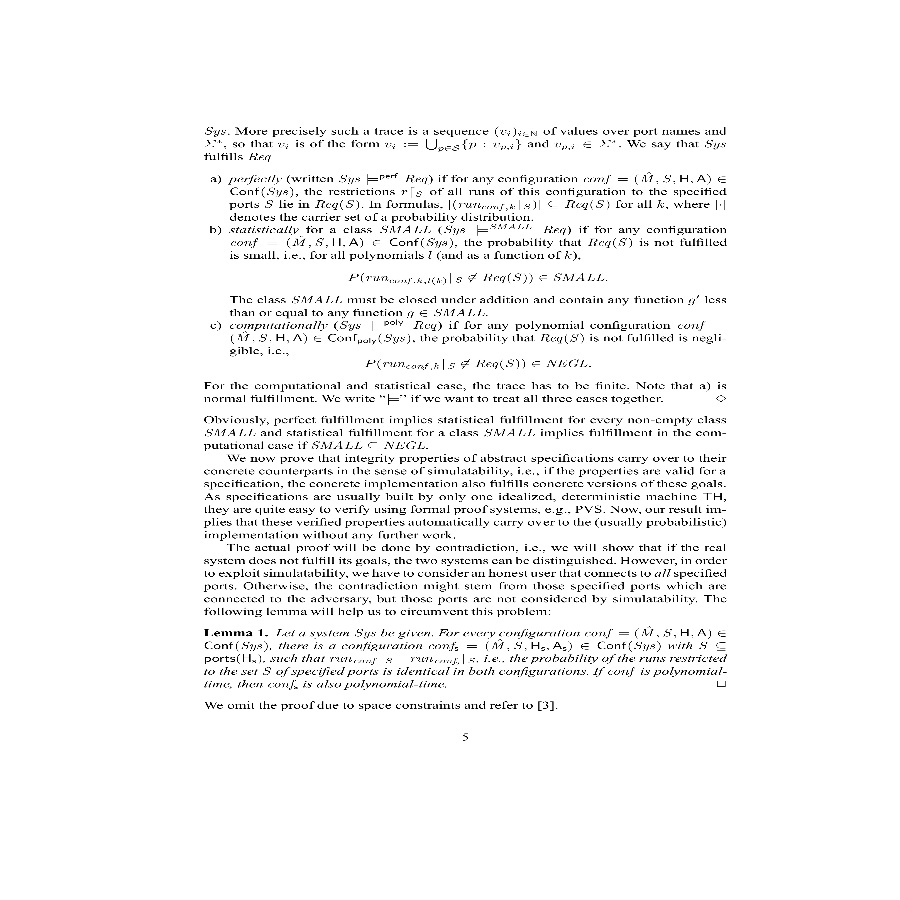eq: (344, 268, 610, 289), (362, 357, 597, 371)
